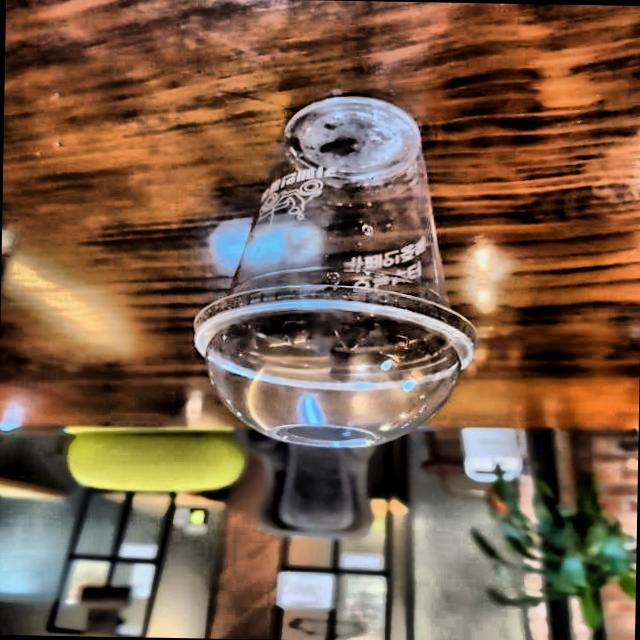plastic cup: (172, 69, 491, 462)
